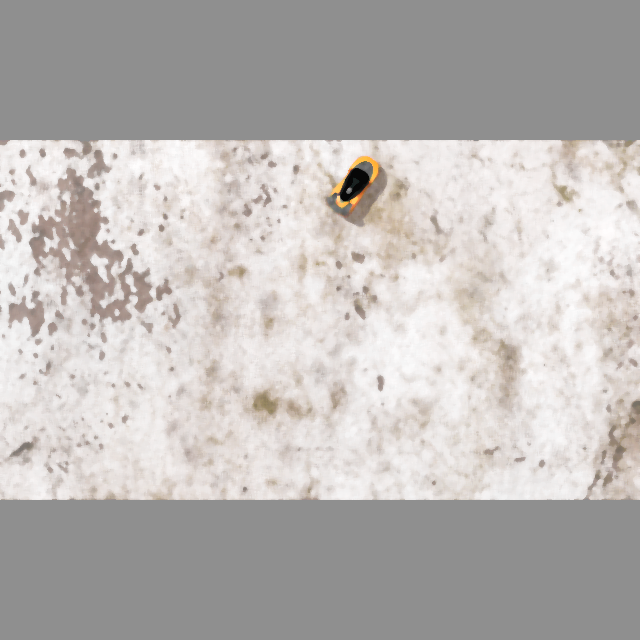car: (321, 147, 386, 222)
